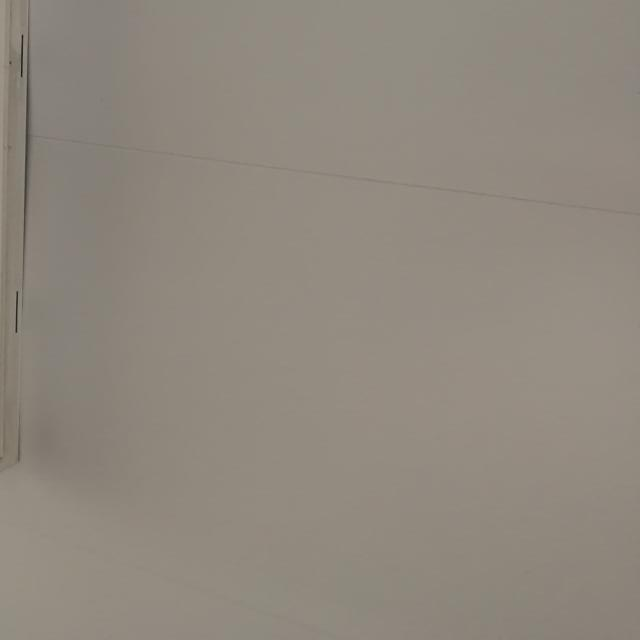fluorescent tube: (1, 0, 36, 492)
